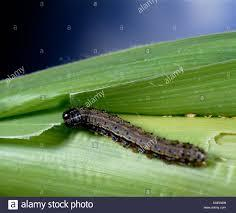fallarmy_worm: (62, 103, 211, 171)
